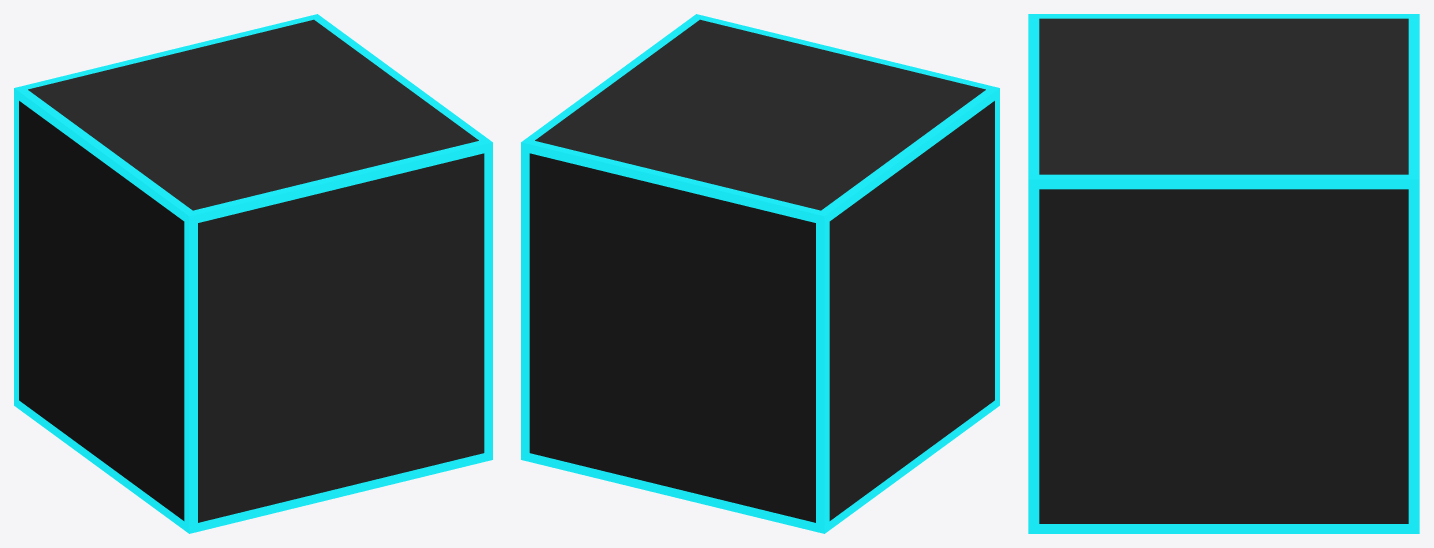
File: GroundBlue.glb
3 renders of one model, left to right at view 1: azimuth 30°, elevation 25°; view 2: azimuth 150°, elevation 25°; view 3: azimuth 270°, elevation 25°, orthographic. The views are drawn at different scales.
Parts seen in each view (by area): view 1: Blue; view 2: Blue; view 3: Blue.
Part boxes in pixels (x1,y1,x2,y2): Blue: (14,14,492,533); Blue: (521,14,999,533); Blue: (1028,14,1419,533).
Size of the model in its own units: 2 by 2 by 2.
